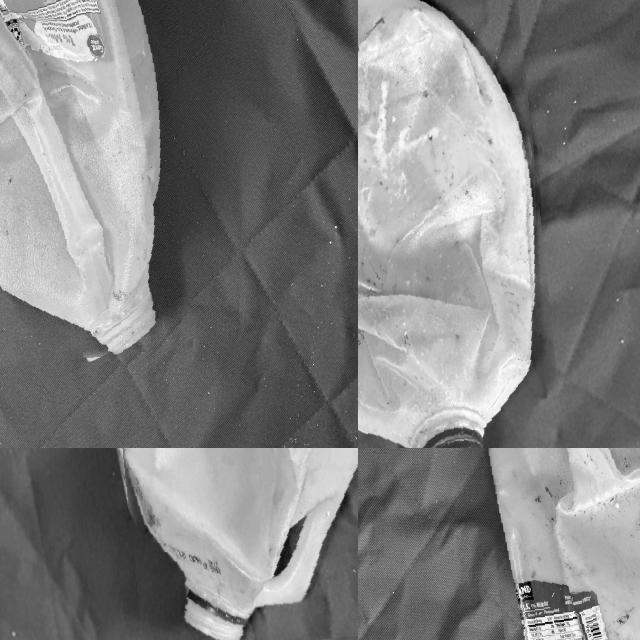milk-jug: (358, 0, 555, 448), (0, 0, 180, 368), (101, 448, 358, 640), (476, 448, 640, 640)
